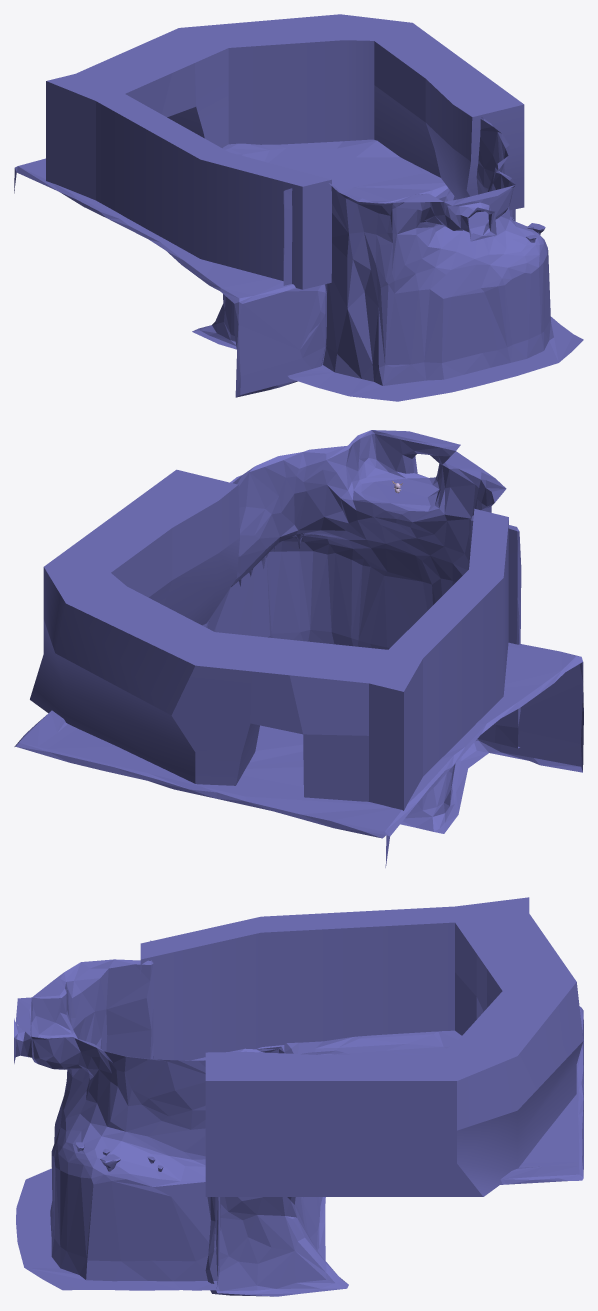
Rendered from cave_area_1_unfinished.fbx.
3 views of the same model, one above another, from view 1: azimuth 30°, elevation 25°; view 2: azimuth 150°, elevation 25°; view 3: azimuth 270°, elevation 25° (orthographic). The views are drawn at different scales.
Visible parts, largest first — view 1: wall2, wall1, ground1; view 2: wall2, wall1, ground1; view 3: wall2, wall1, ground1.
Part boxes in pixels (bbox=[...]): wall2: bbox=[46, 14, 524, 289]; wall1: bbox=[283, 117, 583, 401]; ground1: bbox=[14, 139, 456, 397]; wall2: bbox=[30, 469, 508, 810]; wall1: bbox=[208, 430, 521, 748]; ground1: bbox=[14, 620, 583, 867]; wall2: bbox=[140, 897, 583, 1196]; wall1: bbox=[14, 940, 220, 1290]; ground1: bbox=[191, 1006, 583, 1296].
Bounding box in the file's own units: 148 × 87.49 × 189.
